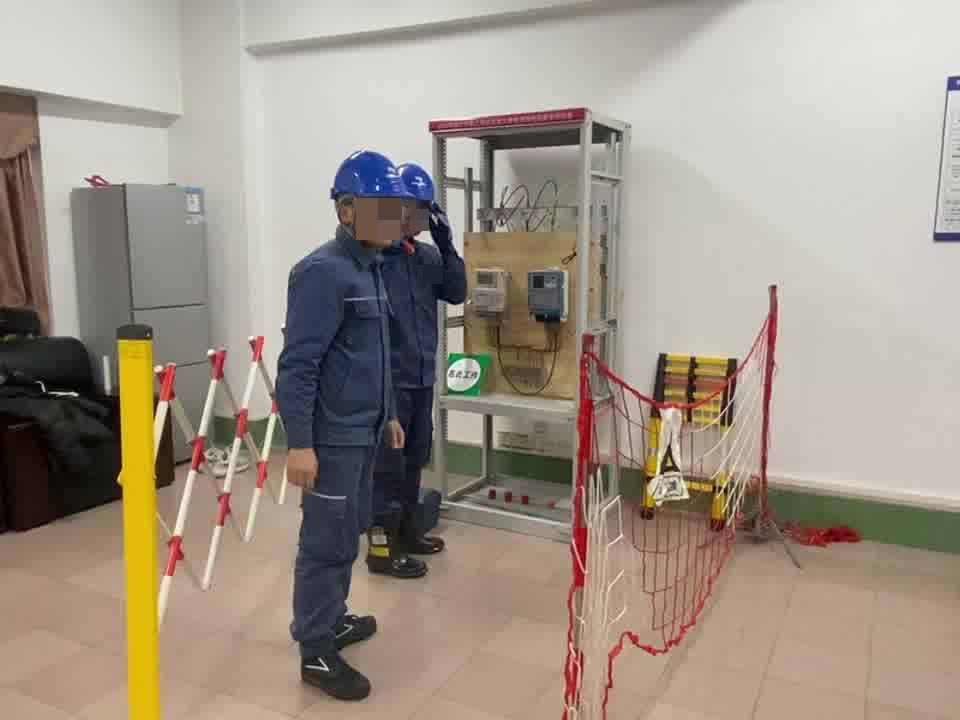downsuit: (289, 427, 391, 651), (363, 384, 426, 501)
glove: (430, 204, 455, 253)
halt: (327, 152, 403, 247), (393, 162, 436, 240)
hand: (281, 443, 320, 486), (388, 417, 406, 446)
inear: (336, 196, 361, 231)
person: (272, 142, 436, 697)
shoe: (363, 508, 428, 576), (390, 491, 443, 554)
upsuit: (274, 229, 395, 446), (373, 236, 451, 382)
worksign: (433, 346, 489, 400)
